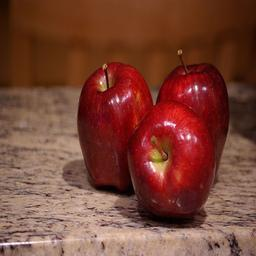apple: (127, 99, 219, 222), (74, 63, 154, 192), (157, 60, 229, 174)
